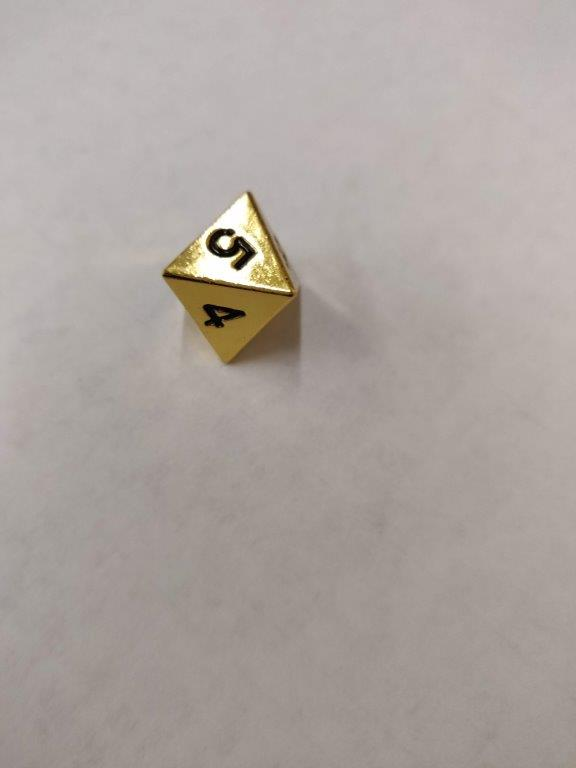d8-5: (160, 187, 305, 370)
